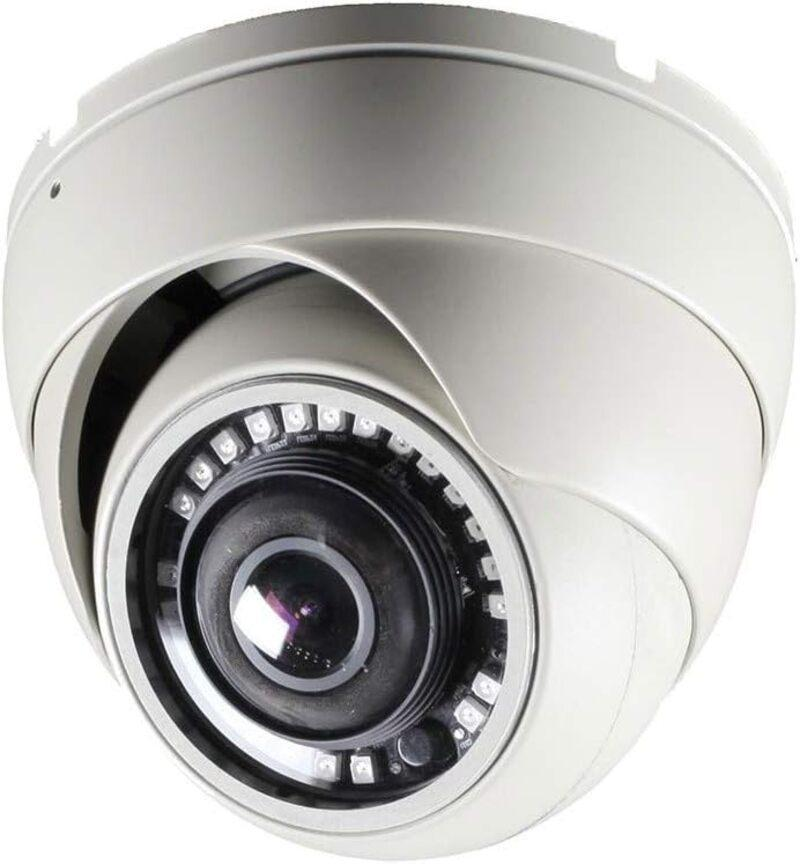turret: (6, 0, 786, 855)
